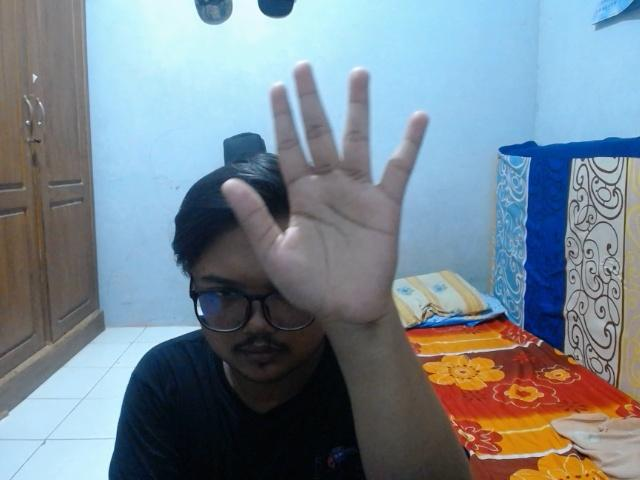Release: (216, 54, 434, 334)
